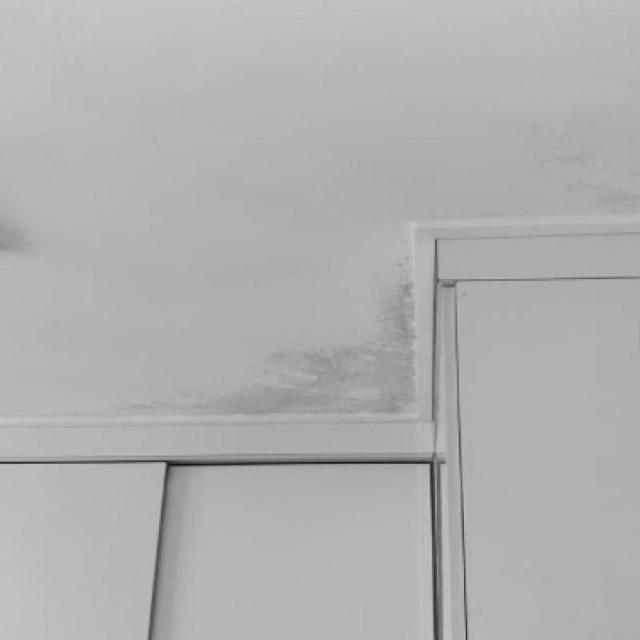stain marks: (116, 255, 414, 413)
